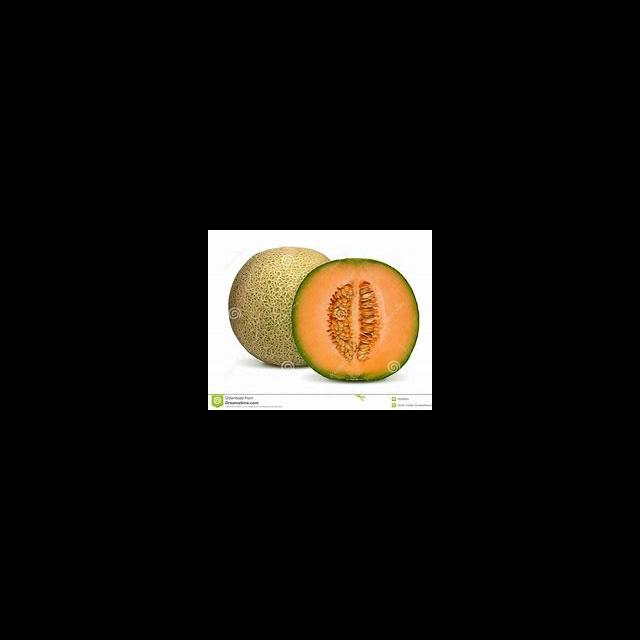Hami Melon: (292, 257, 420, 382), (228, 245, 327, 367)
